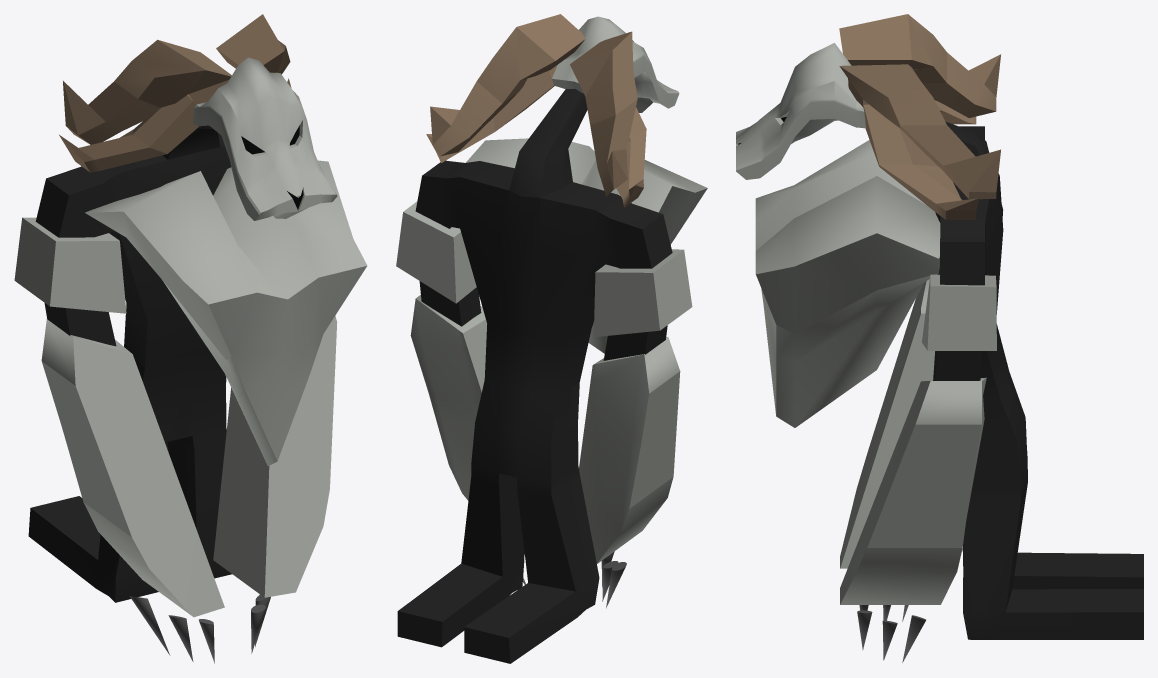
The model's file is guard_low.fbx.
3 renders of one model, left to right at view 1: azimuth 30°, elevation 25°; view 2: azimuth 150°, elevation 25°; view 3: azimuth 270°, elevation 25°, orthographic. The views are drawn at different scales.
Parts seen in each view (by area): view 1: guard_arms, guard_chest, guard_body, guard_head, guard_horns_upper, guard_shoulders, guard_horns_lower, guard_claws; view 2: guard_body, guard_arms, guard_horns_upper, guard_shoulders, guard_chest, guard_horns_lower, guard_head, guard_claws; view 3: guard_chest, guard_body, guard_arms, guard_horns_upper, guard_head, guard_horns_lower, guard_shoulders, guard_claws.
Part boxes in pixels (<box>): guard_arms: <box>41,316,337,617</box>; guard_chest: <box>85,160,367,465</box>; guard_body: <box>28,125,231,602</box>; guard_head: <box>193,57,337,220</box>; guard_horns_upper: <box>63,14,290,144</box>; guard_shoulders: <box>14,217,126,313</box>; guard_horns_lower: <box>59,78,291,172</box>; guard_claws: <box>129,594,270,663</box>; guard_body: <box>397,89,672,663</box>; guard_arms: <box>410,295,680,563</box>; guard_horns_upper: <box>430,14,637,196</box>; guard_shoulders: <box>396,201,692,337</box>; guard_chest: <box>466,138,707,353</box>; guard_horns_lower: <box>426,65,646,207</box>; guard_head: <box>552,16,679,112</box>; guard_claws: <box>523,551,626,608</box>; guard_chest: <box>755,140,940,427</box>; guard_body: <box>933,121,1143,639</box>; guard_arms: <box>840,279,986,604</box>; guard_horns_upper: <box>839,14,1000,199</box>; guard_head: <box>736,43,865,179</box>; guard_horns_lower: <box>863,100,979,219</box>; guard_shoulders: <box>922,274,996,350</box>; guard_claws: <box>857,605,925,662</box>.
Bounding box in the file's own units: 57.61 × 118 × 71.73.
